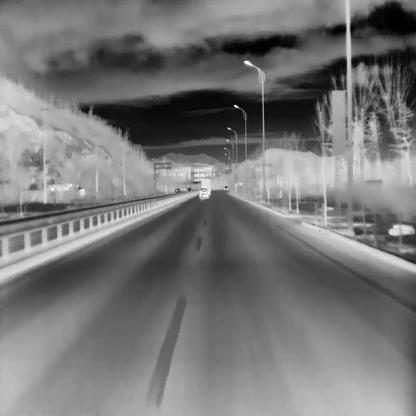car: (199, 187, 208, 198)
truck: (201, 178, 210, 195)
